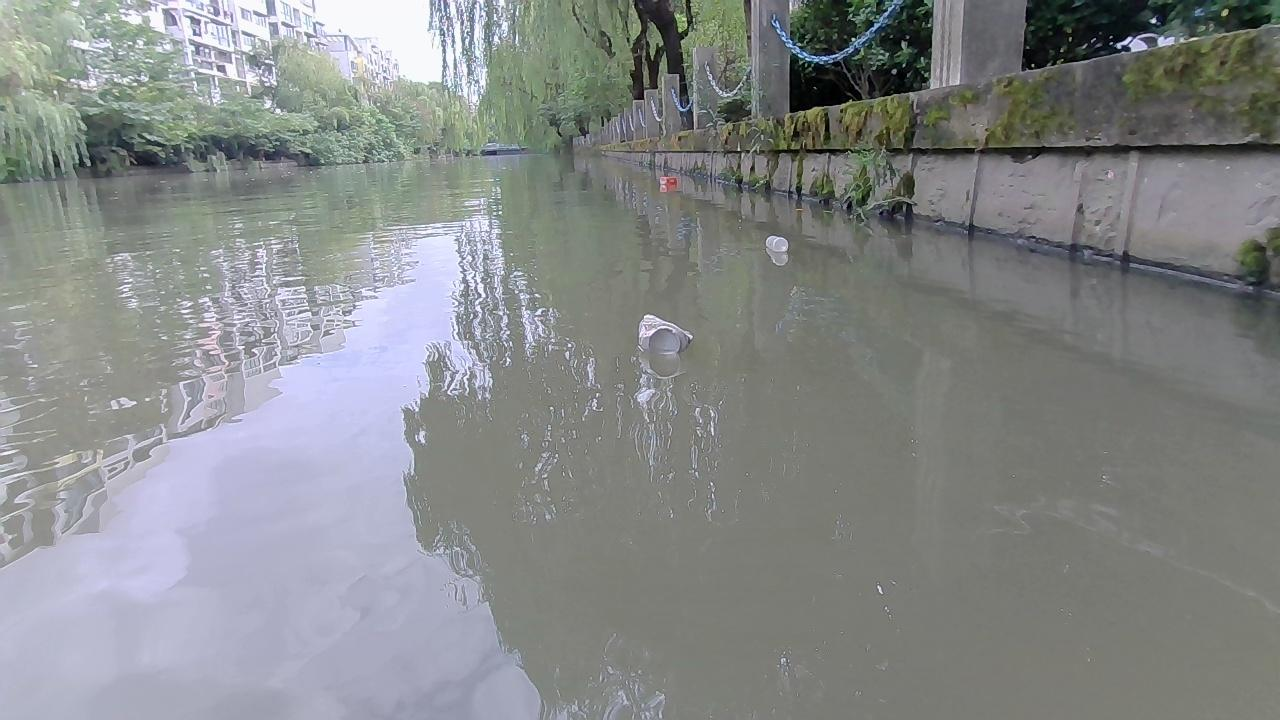bottle: (631, 309, 693, 360), (765, 234, 787, 252), (660, 172, 680, 187)
